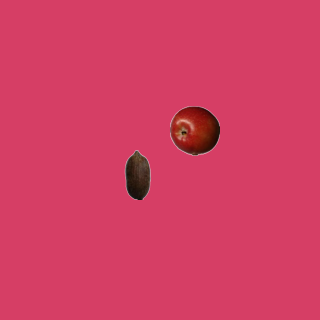Apple Braeburn: (169, 105, 219, 155)
Nut Pecan: (112, 149, 162, 199)
